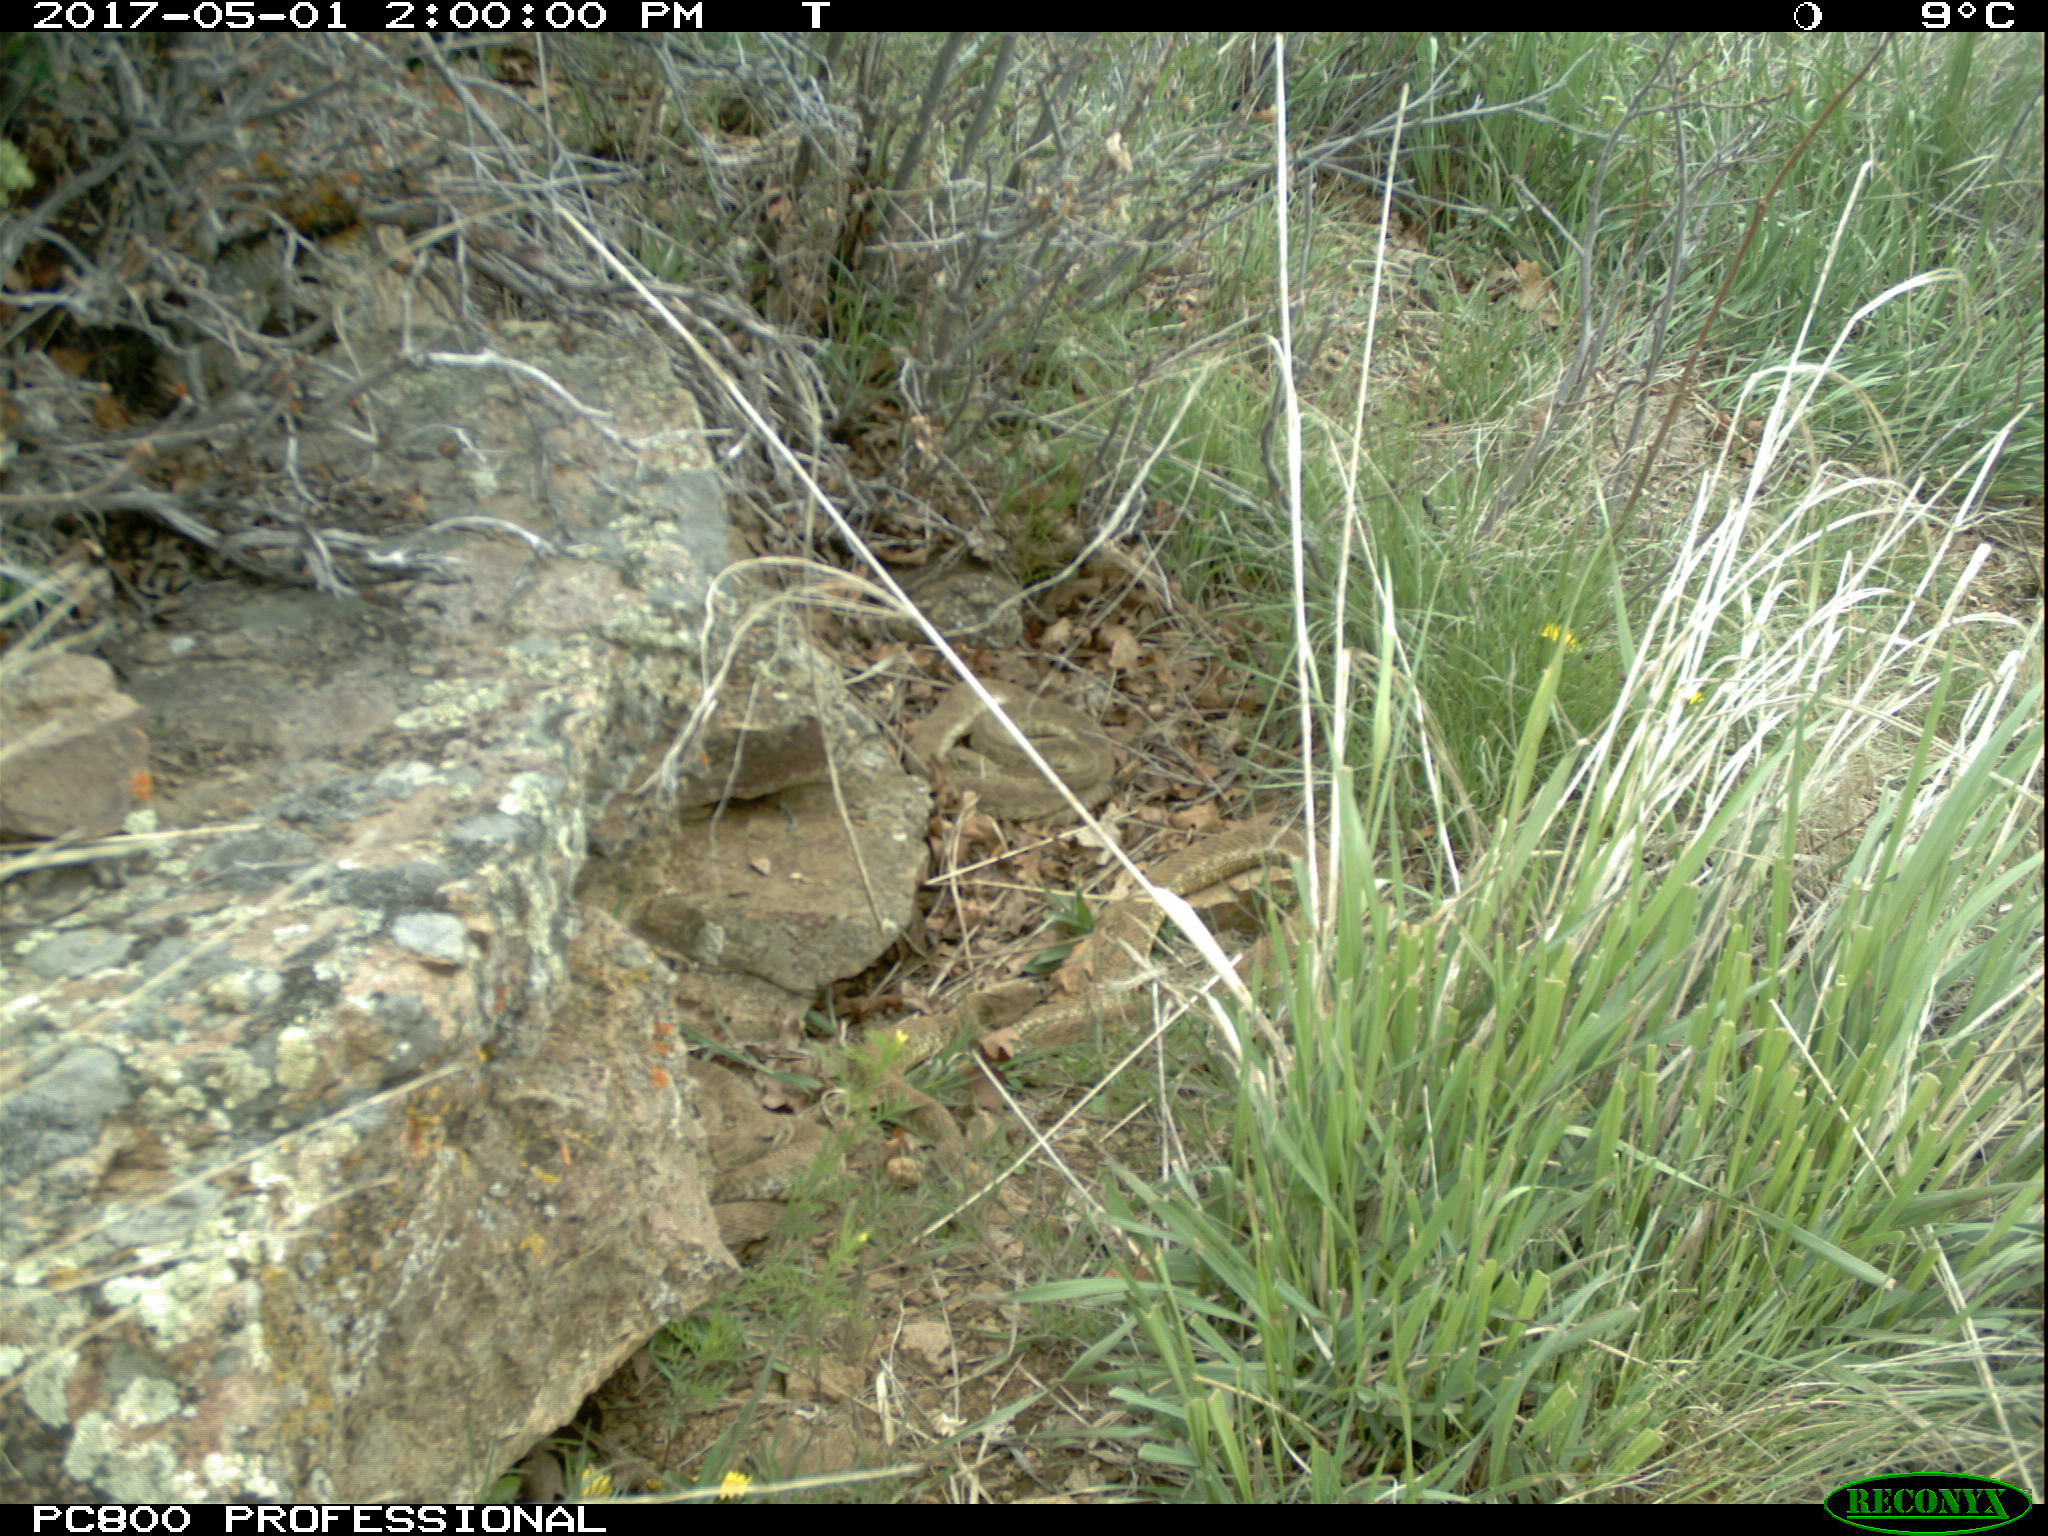snake: (930, 831, 1361, 1052), (676, 1046, 971, 1246), (901, 671, 1116, 828)
